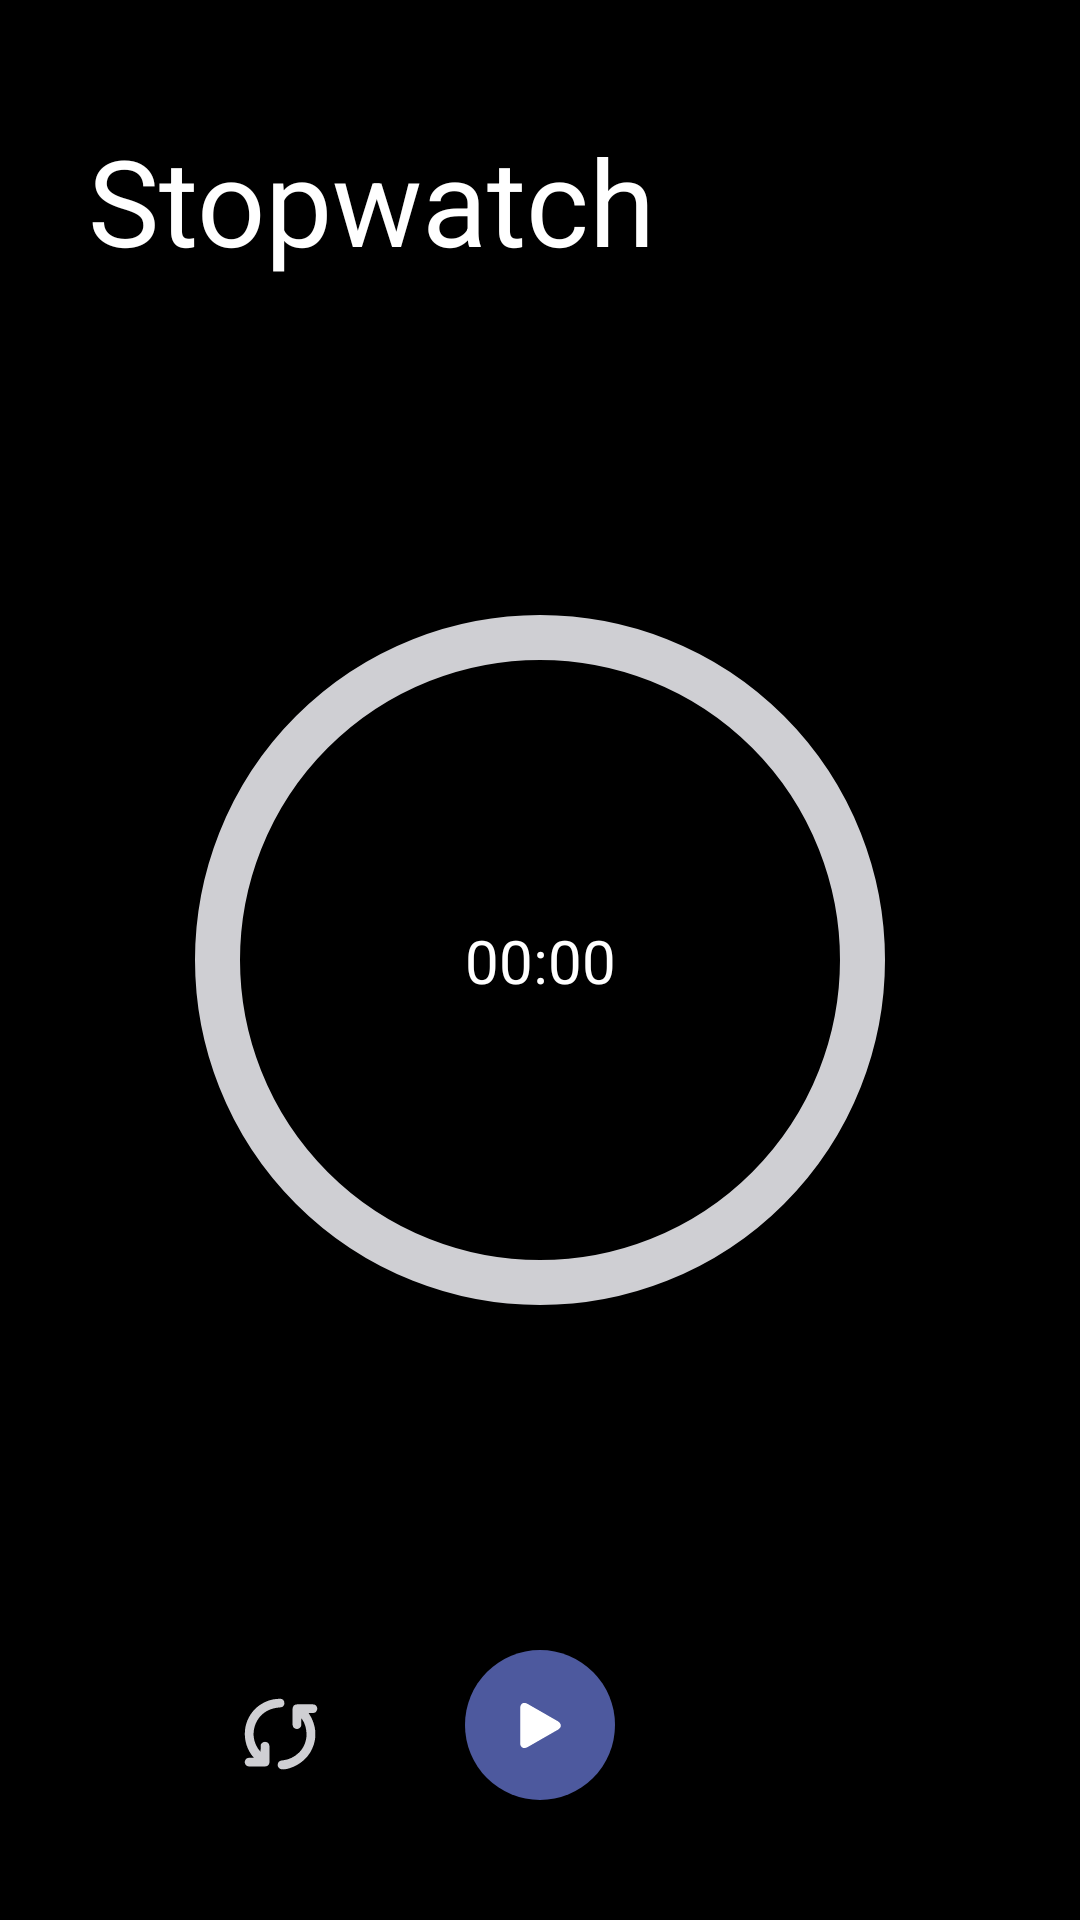

Icons on this 1080 x 1920 Android screen, each with the point to tap as [x,y]:
playbutton: [540,1725]
